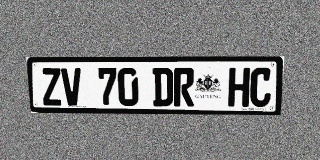0: (117, 68, 138, 106)
7: (97, 68, 118, 106)
C: (249, 68, 272, 107)
D: (152, 68, 173, 106)
H: (228, 68, 250, 107)
R: (174, 68, 194, 106)
V: (61, 68, 82, 106)
Z: (40, 68, 62, 106)
